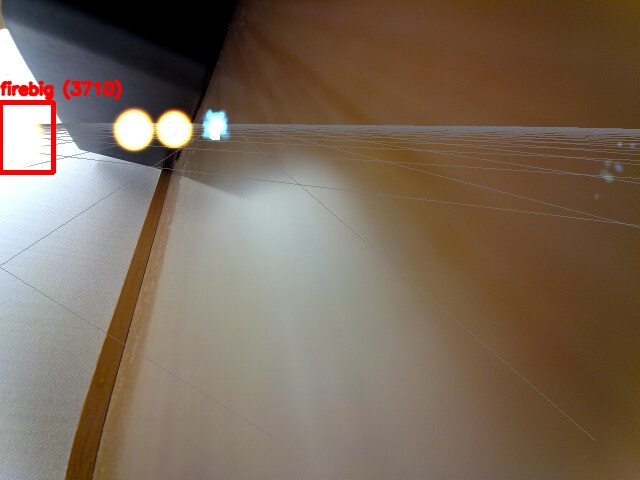firebig: (0, 102, 53, 172)
